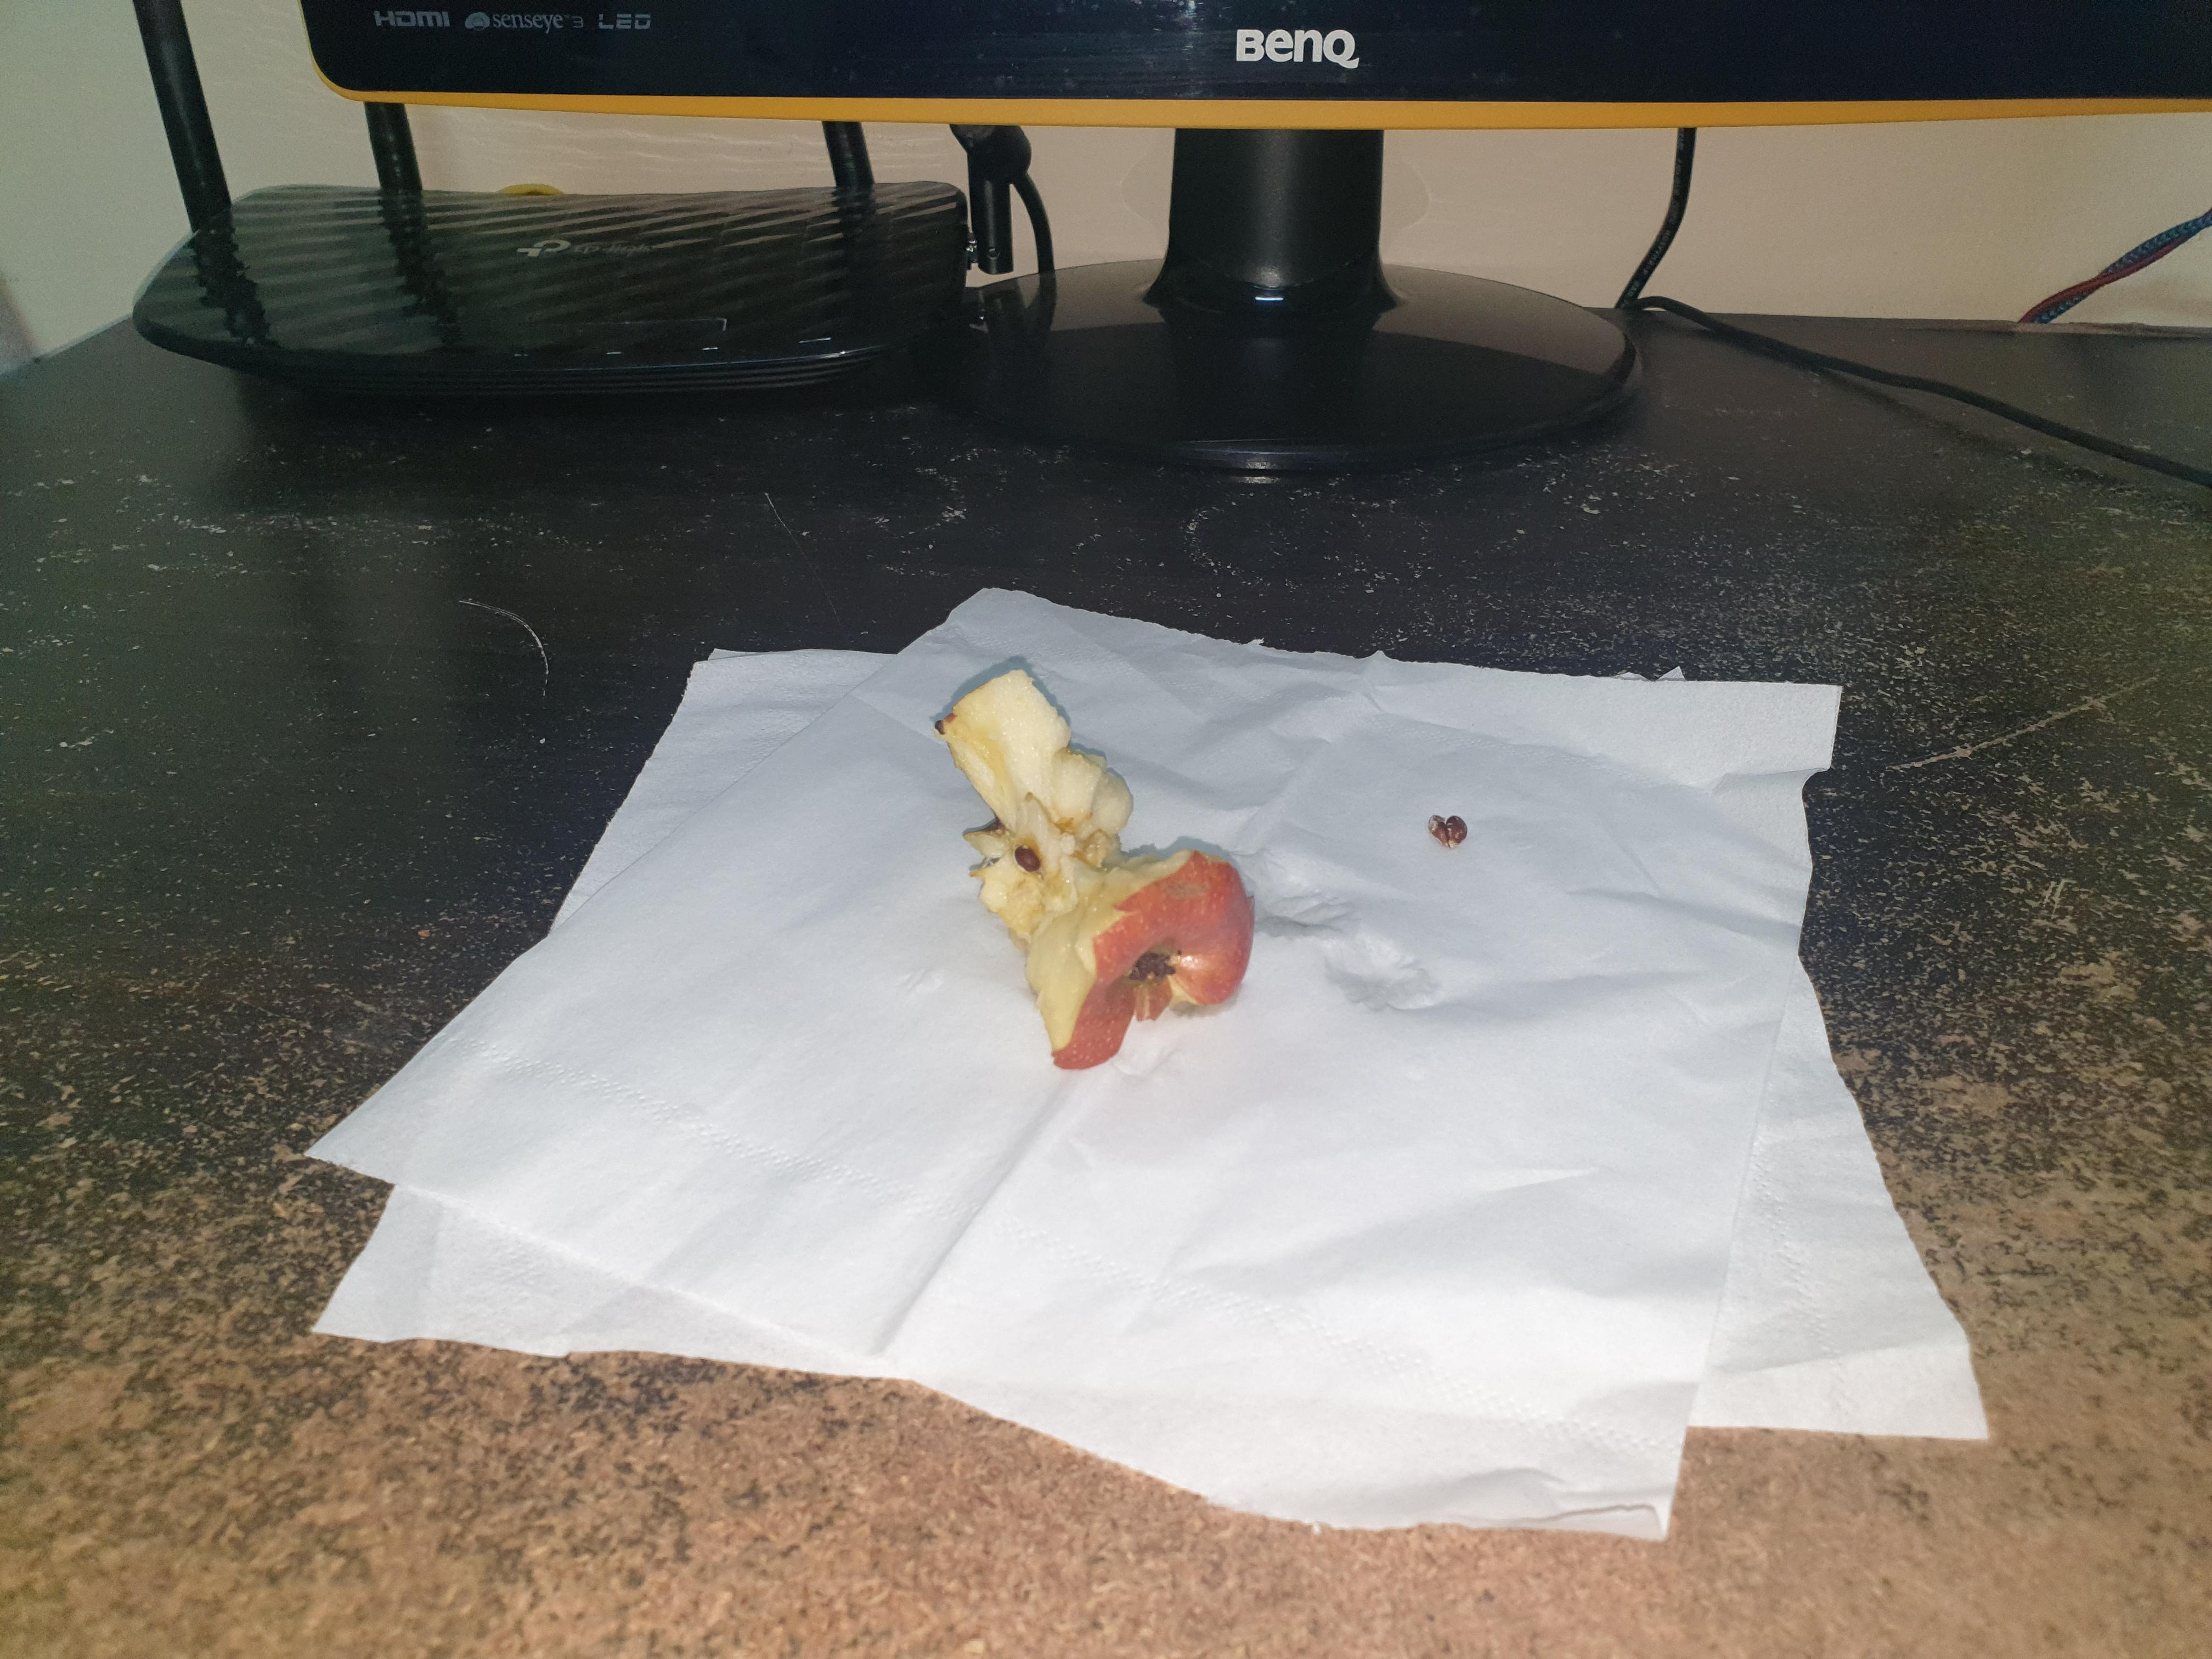Apple: (892, 640, 1301, 1087)
